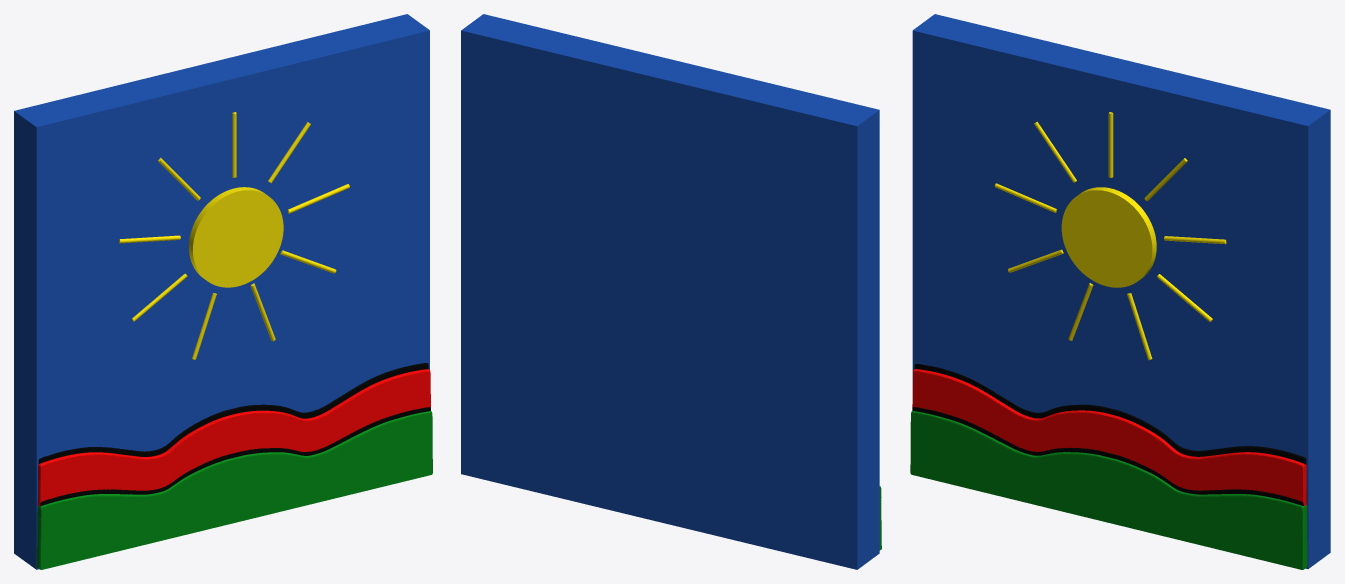
Rendered from Acquarossa.glb.
3 renders of one model, left to right at view 1: azimuth 30°, elevation 25°; view 2: azimuth 150°, elevation 25°; view 3: azimuth 330°, elevation 25°, orthographic.
Parts seen in each view (by area): view 1: Box (×2), Box 2, Cylinder (×2), Box 3, Box 1; view 2: Box; view 3: Box (×2), Box 2, Cylinder (×2), Box 3, Box 1.
Boxes of the visible parts, x1,y1,x2,y2 form: Box (×2): (14, 14, 432, 569); Box 2: (37, 369, 430, 506); Cylinder (×2): (119, 112, 349, 359); Box 3: (38, 363, 428, 463); Box 1: (40, 407, 430, 505); Box: (461, 14, 879, 569); Box (×2): (910, 14, 1330, 569); Box 2: (912, 369, 1306, 505); Cylinder (×2): (994, 112, 1226, 360); Box 3: (914, 364, 1306, 504); Box 1: (912, 407, 1303, 505).
Bounding box in the file's own units: 1.54 × 1.65 × 0.1824.
